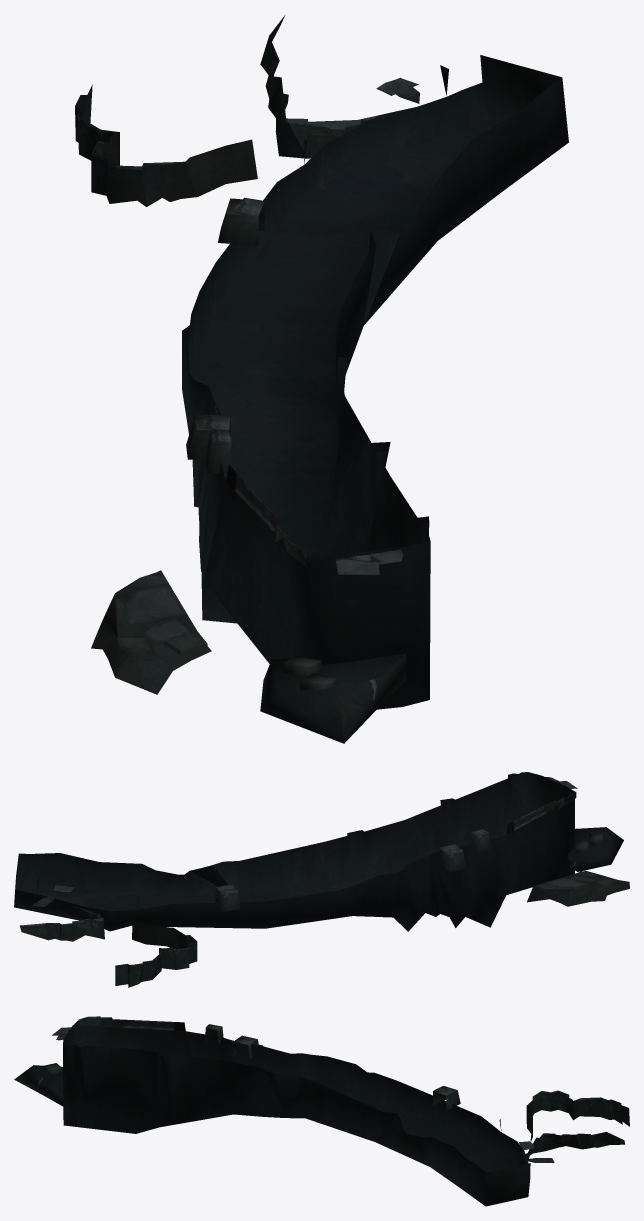
File: ruisi_shandi07.FBX
3 views of the same model, one above another, from view 1: azimuth 30°, elevation 25°; view 2: azimuth 150°, elevation 25°; view 3: azimuth 270°, elevation 25° (orthographic). The views are drawn at different scales.
Parts seen in each view (by area): view 1: ruisi_shandi07; view 2: ruisi_shandi07; view 3: ruisi_shandi07.
Part boxes in pixels (box(x1,y1,x2,y2)): ruisi_shandi07: box(75, 15, 568, 743); ruisi_shandi07: box(14, 772, 629, 987); ruisi_shandi07: box(14, 1016, 629, 1206).
Size of the model in its own units: 383 by 84.19 by 500.
